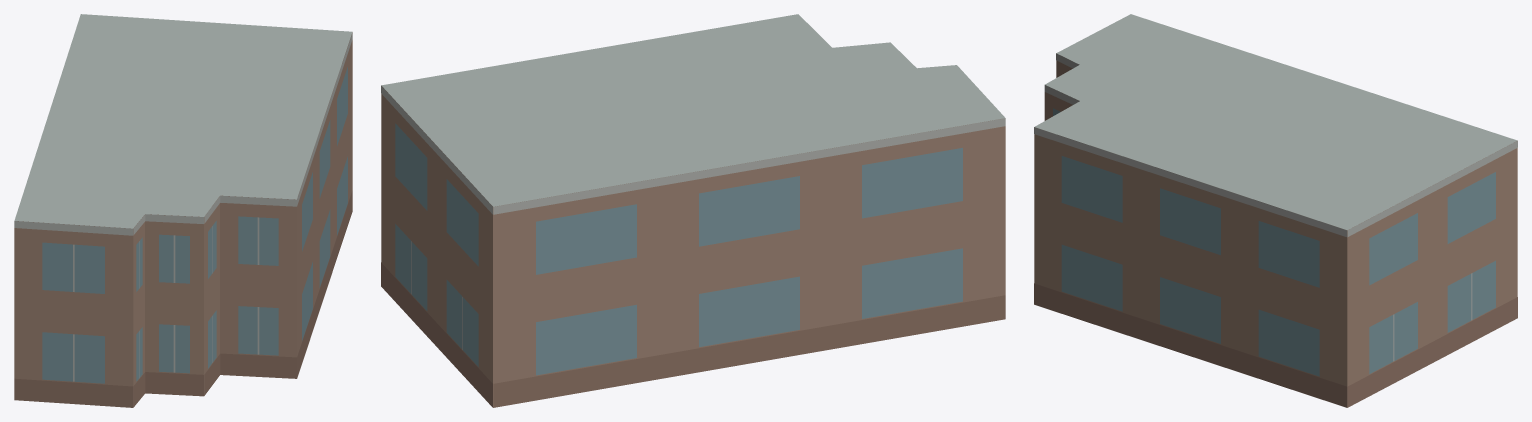
File: survey-upis-32709679.glb
The picture shows the model from 3 angles, left to right: view 1: azimuth 30°, elevation 25°; view 2: azimuth 150°, elevation 25°; view 3: azimuth 270°, elevation 25°; orthographic projection. The views are drawn at different scales.
Visible parts, largest first — view 1: survey-upis-32709679.tmp; view 2: survey-upis-32709679.tmp; view 3: survey-upis-32709679.tmp.
Part boxes in pixels (x1,y1,x2,y2): survey-upis-32709679.tmp: [14, 14, 352, 407]; survey-upis-32709679.tmp: [381, 14, 1005, 407]; survey-upis-32709679.tmp: [1034, 14, 1517, 407].
Size of the model in its own units: 15.94 by 6.1 by 15.06.
